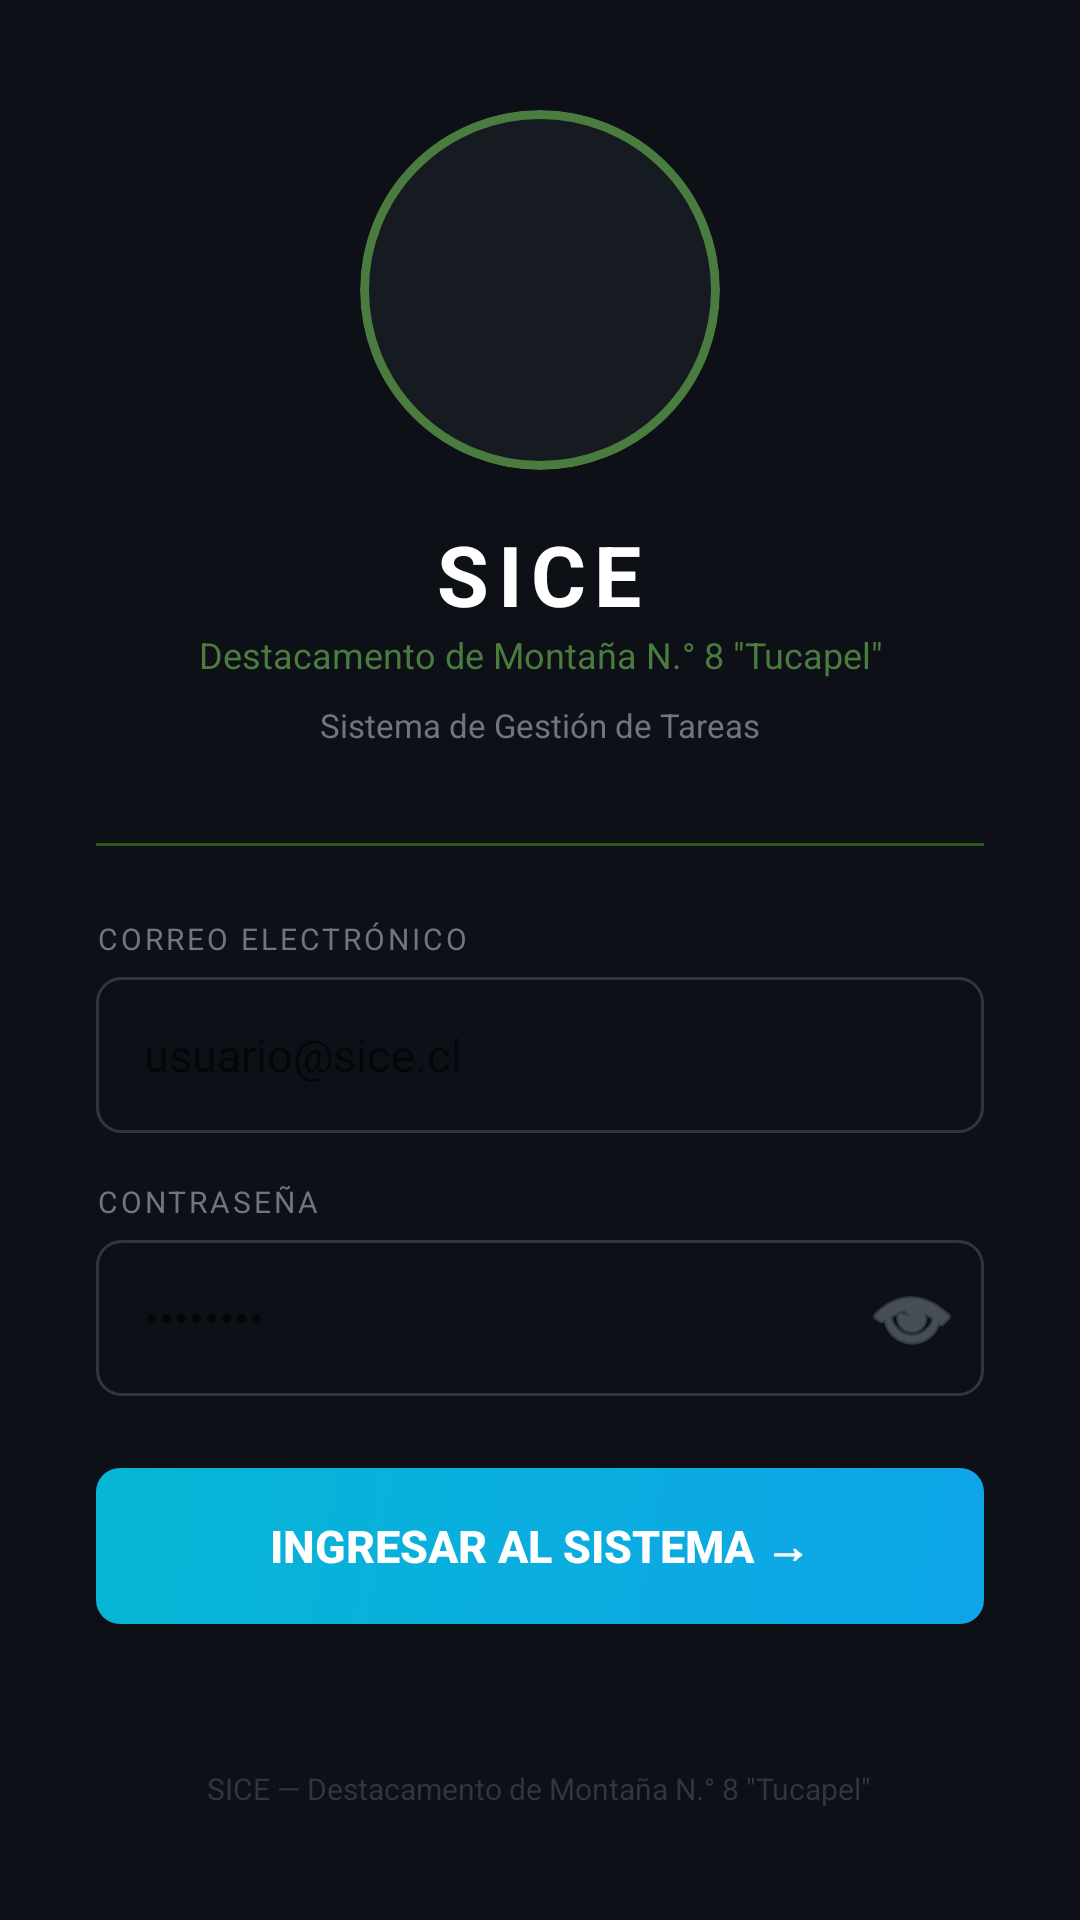

Locate icon controls on the screen. Image size 1080 × 1920, boxes as [x1=x1, y1=y1, x2=x2, y2=y2].
view: [x1=873, y1=1296, x2=951, y2=1345]
